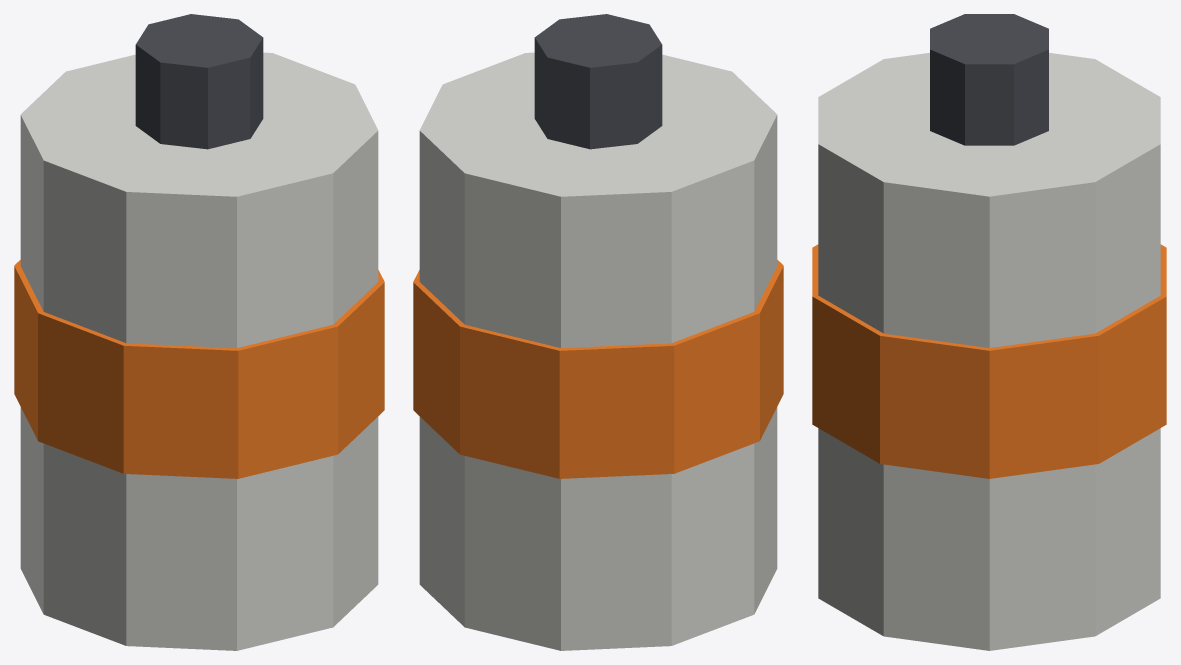
The model's file is rocket_fuel.glb.
3 renders of one model, left to right at view 1: azimuth 30°, elevation 25°; view 2: azimuth 150°, elevation 25°; view 3: azimuth 270°, elevation 25°, orthographic.
Visible parts, largest first — view 1: rocket_fuel; view 2: rocket_fuel; view 3: rocket_fuel.
Boxes of the visible parts, x1=… form: rocket_fuel: x1=14, y1=14, x2=384, y2=650; rocket_fuel: x1=413, y1=14, x2=783, y2=650; rocket_fuel: x1=812, y1=14, x2=1166, y2=650.
Size of the model in its own units: 0.58 by 0.92 by 0.5516.
